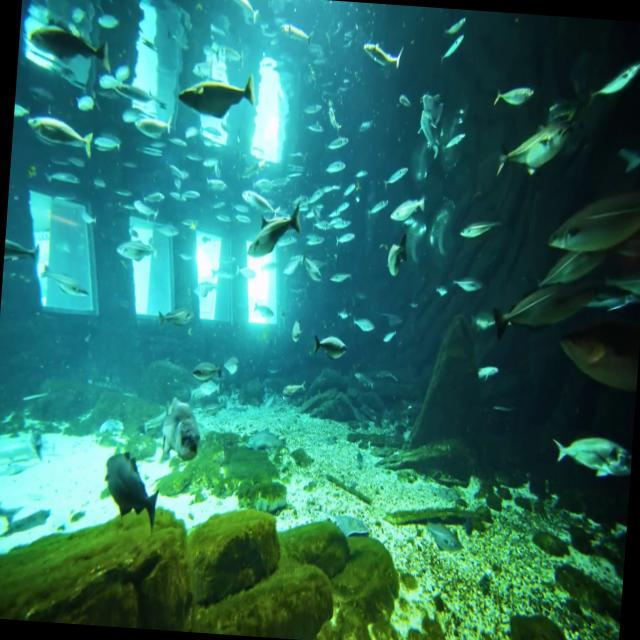fish: (542, 159, 640, 263), (487, 274, 588, 350), (97, 426, 169, 532), (490, 100, 580, 184), (24, 12, 112, 76), (548, 421, 633, 485), (172, 62, 256, 124), (244, 191, 302, 270), (582, 40, 640, 117), (20, 106, 99, 162), (2, 217, 49, 281), (306, 307, 351, 373), (109, 222, 158, 282), (182, 341, 235, 387), (166, 402, 204, 464), (157, 286, 196, 344), (37, 265, 94, 304), (272, 8, 320, 54), (455, 202, 505, 243), (488, 77, 536, 119), (360, 31, 402, 78), (378, 228, 413, 284), (446, 260, 489, 304), (435, 22, 471, 72), (465, 352, 506, 392), (383, 187, 430, 220), (380, 157, 423, 193), (442, 8, 472, 47), (348, 308, 376, 340), (366, 186, 392, 220), (333, 219, 358, 254), (284, 248, 306, 287), (222, 0, 264, 20), (286, 311, 307, 348), (326, 130, 352, 158), (303, 222, 329, 250), (304, 254, 322, 291), (322, 157, 346, 180), (328, 213, 351, 233)
